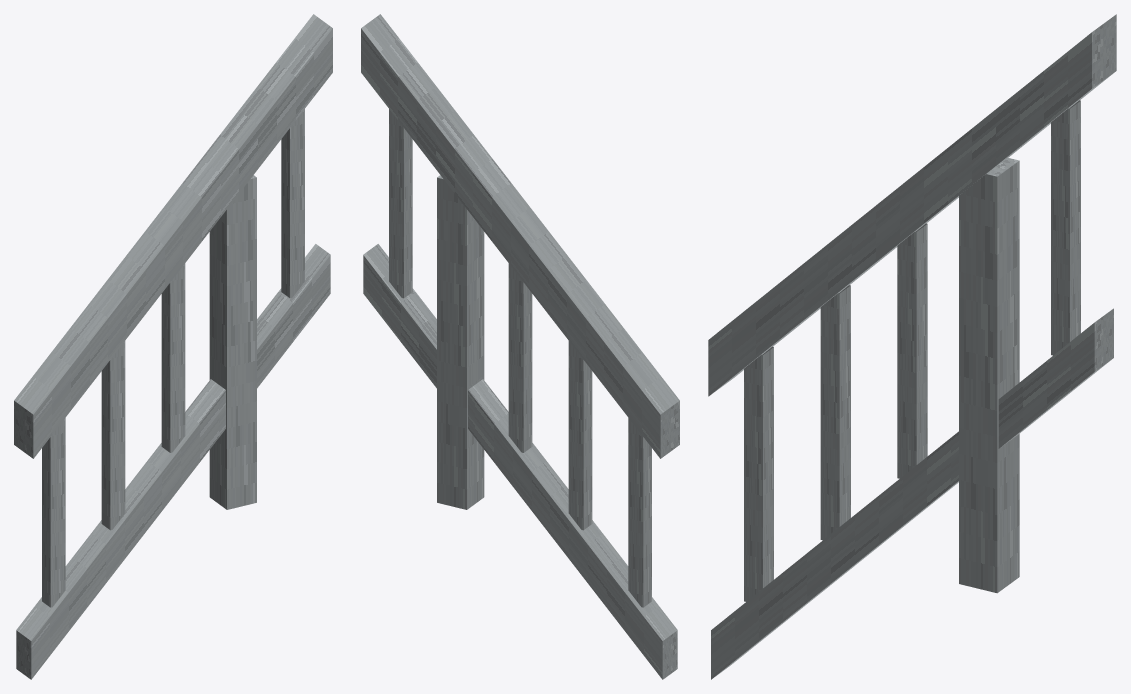
File: mid_pos.obj
3 renders of one model, left to right at view 1: azimuth 30°, elevation 25°; view 2: azimuth 150°, elevation 25°; view 3: azimuth 330°, elevation 25°, orthographic. The views are drawn at different scales.
Visible parts, largest first — view 1: railing_picket_galvanized_mid_pos; view 2: railing_picket_galvanized_mid_pos; view 3: railing_picket_galvanized_mid_pos.
Part boxes in pixels (x1,y1,x2,y2): railing_picket_galvanized_mid_pos: (14, 14, 332, 679); railing_picket_galvanized_mid_pos: (361, 14, 679, 679); railing_picket_galvanized_mid_pos: (708, 14, 1116, 679).
Bounding box in the file's own units: 1 × 1.85 × 0.1125.
